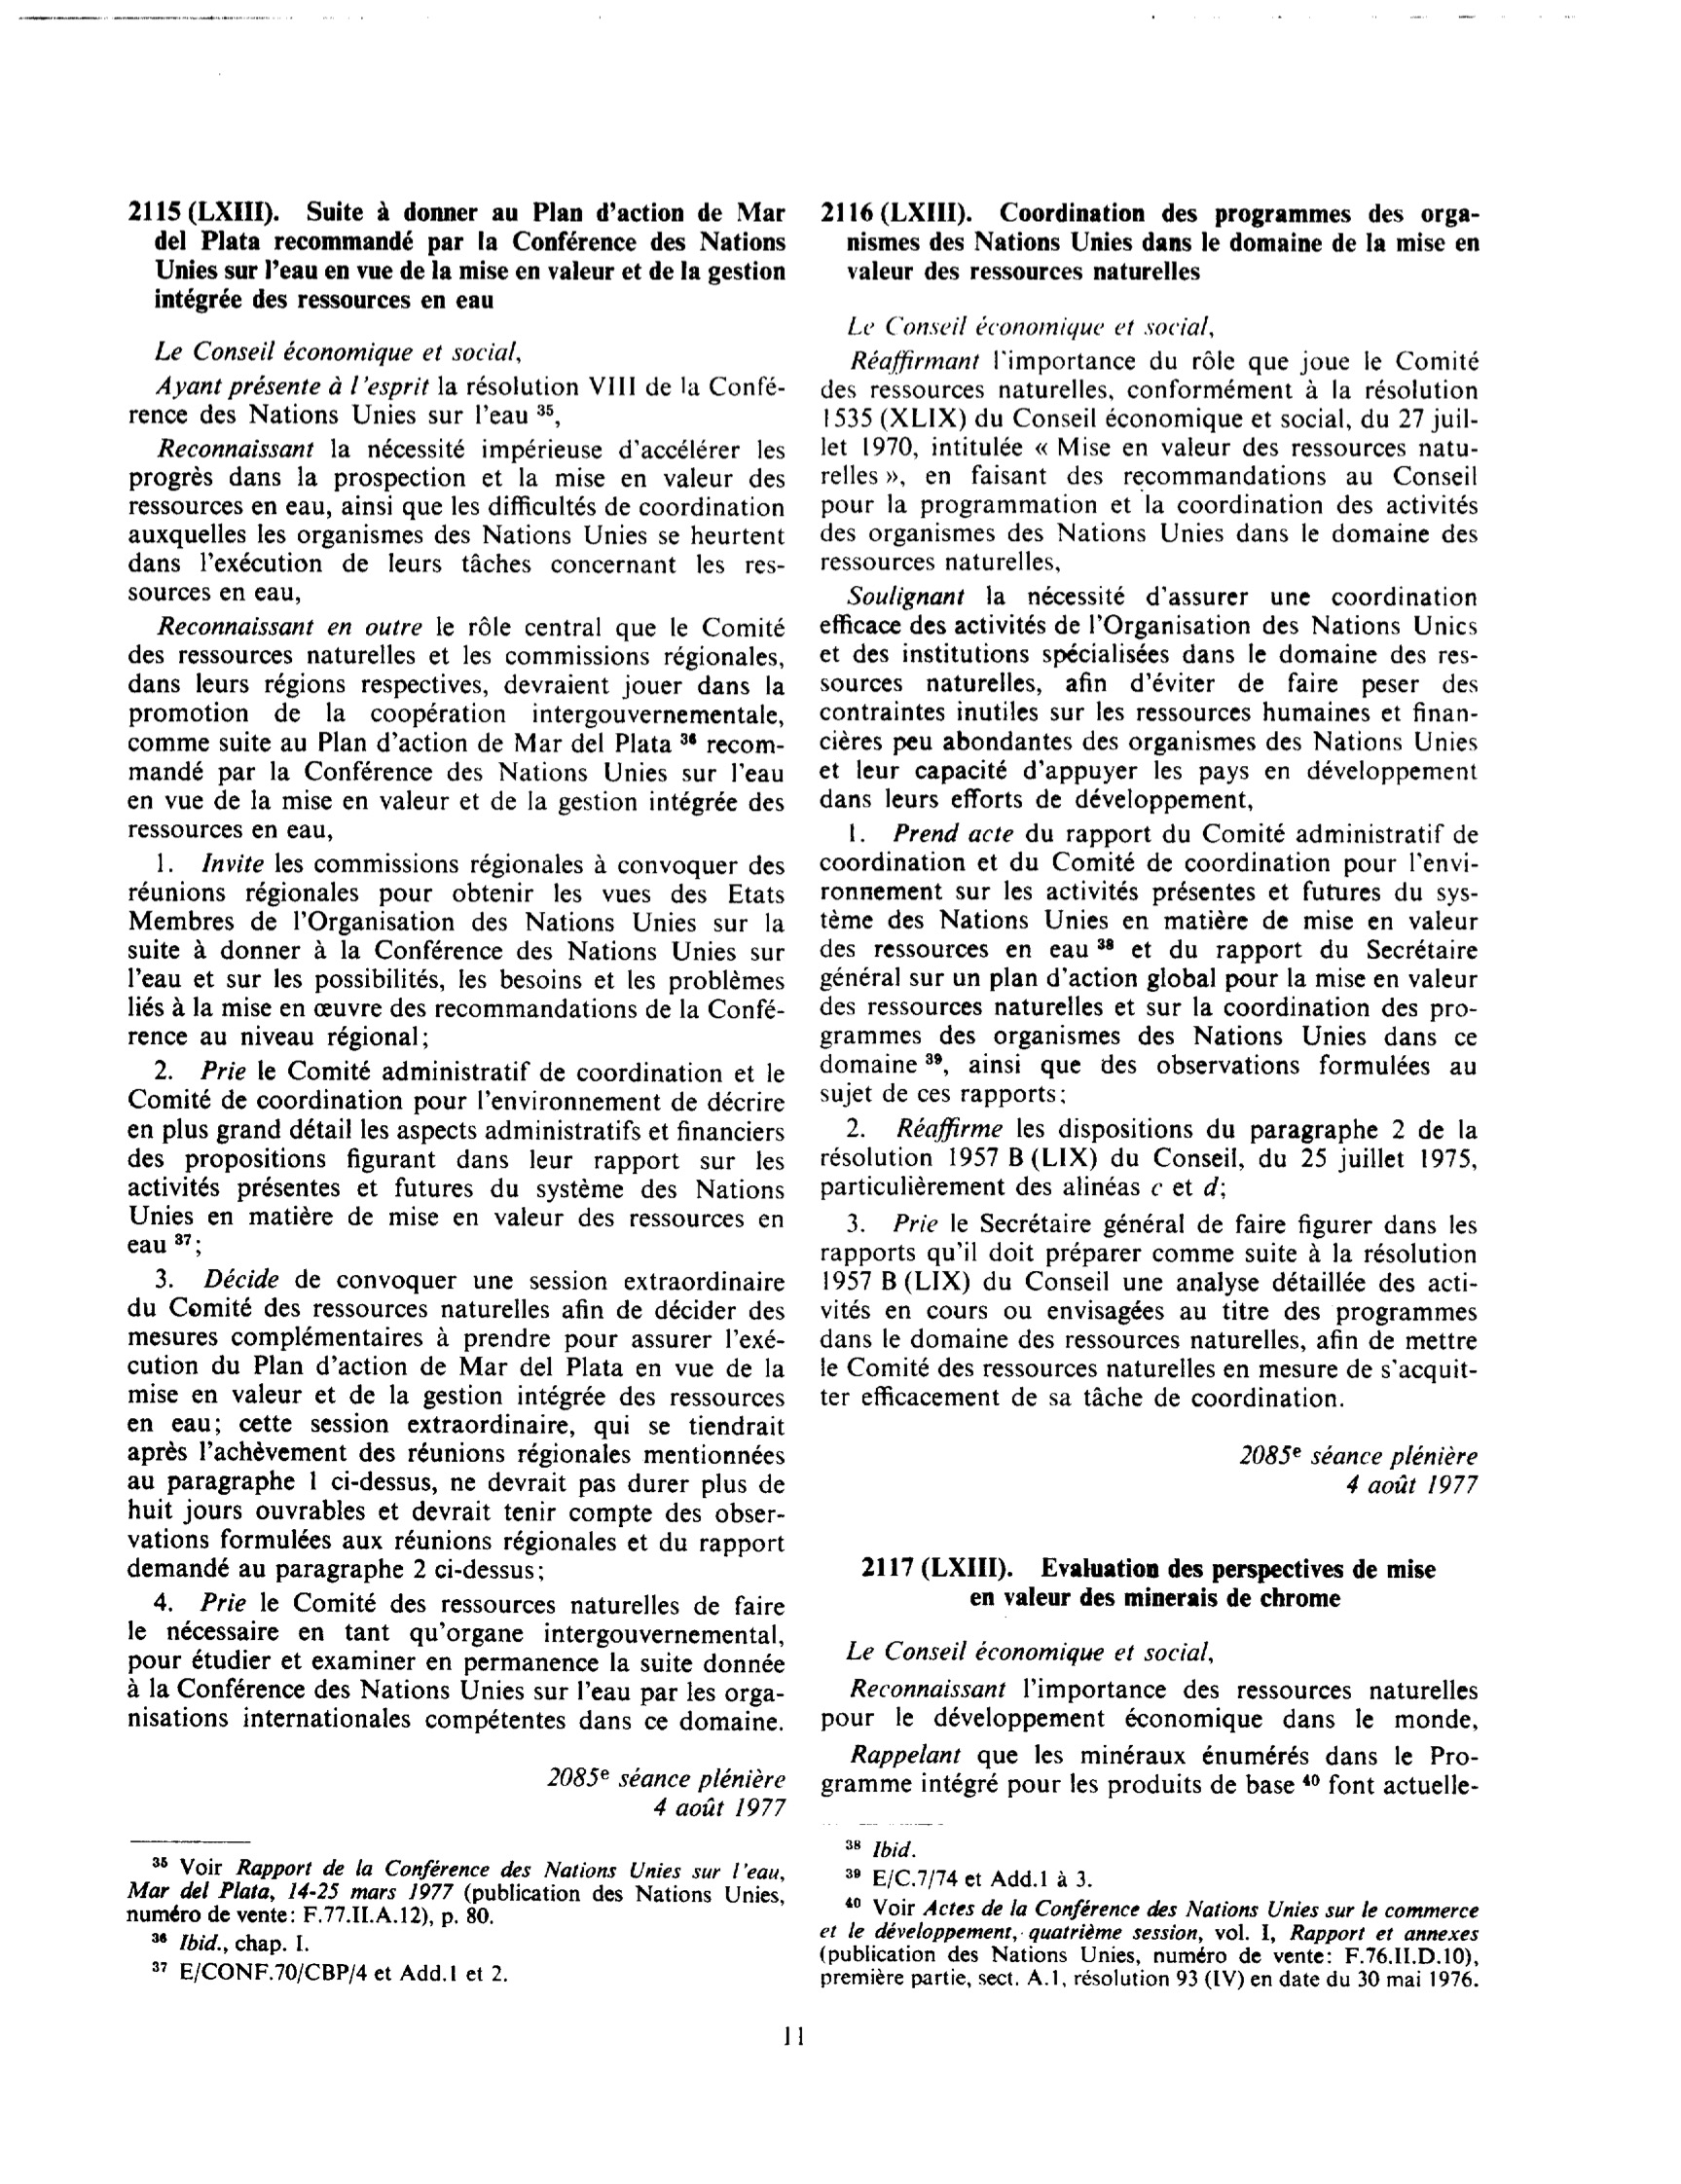MainZone-Date: (1333, 1468, 1481, 1498), (643, 1791, 787, 1821)
MainZone-Head: (119, 193, 794, 319), (819, 195, 1486, 288), (850, 1546, 1451, 1617)
MainZone-ListItem: (119, 1259, 791, 1585), (815, 817, 1486, 1110), (816, 1205, 1486, 1416), (122, 847, 797, 1053), (122, 1052, 794, 1256), (120, 1585, 794, 1741), (816, 1110, 1487, 1203)
MainZone-P: (815, 580, 1486, 817), (120, 610, 792, 844), (816, 345, 1486, 576), (122, 433, 792, 608), (815, 1739, 1487, 1809), (816, 1670, 1489, 1738), (123, 369, 791, 430), (823, 307, 1223, 342), (833, 1632, 1228, 1667), (125, 332, 530, 366)
MainZone-Signature: (1223, 1436, 1481, 1472), (529, 1760, 780, 1790)
MarginTextZone-Notes: (812, 1891, 1488, 2003), (108, 1845, 787, 1923), (816, 1858, 1487, 1892), (142, 1958, 512, 1991), (136, 1925, 317, 1957), (830, 1830, 930, 1862)
NumberingZone: (778, 2019, 811, 2057)
